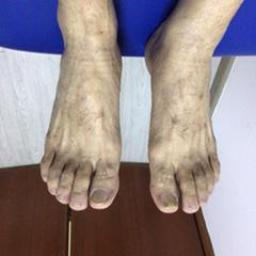Dorsal View -Both Feet-: (32, 11, 229, 228)
